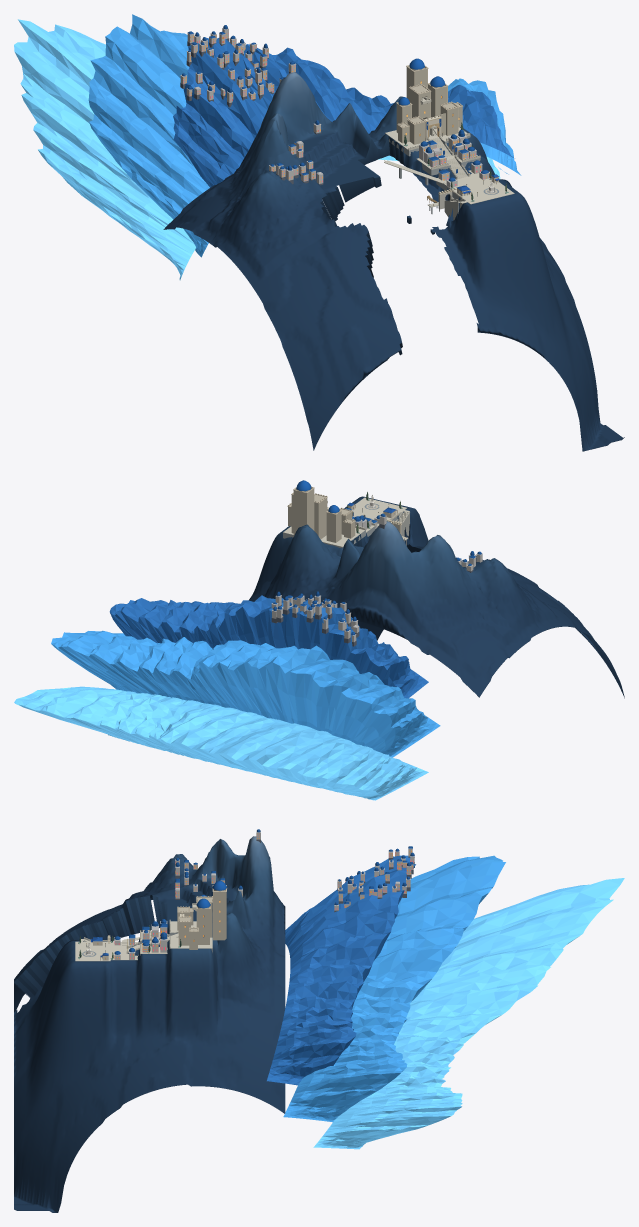
The model's file is citadel-cliff-input-v4.glb.
The picture shows the model from 3 angles, top to bottom: view 1: azimuth 30°, elevation 25°; view 2: azimuth 150°, elevation 25°; view 3: azimuth 270°, elevation 25°; orthographic projection. The views are drawn at different scales.
Visible parts, largest first — view 1: citadel-oskar-grid-mountain-surface, citadel-backdrop-ridge-mid, citadel-backdrop-ridge-far, citadel-backdrop-ridge-near, target-castle-exterior (×2), citadel-target-hillside-houses-claude-exterior-0, citadel-coastal-cliff-seal, citadel-target-hillside-houses-claude-exterior-5, west-city-plaza-deck, citadel-target-hillside-houses-claude-exterior-6, citadel-target-hillside-houses-claude-exterior-1; view 2: citadel-oskar-grid-mountain-surface, citadel-backdrop-ridge-mid, citadel-backdrop-ridge-far, citadel-backdrop-ridge-near, target-castle-exterior, citadel-target-hillside-houses-claude-exterior-0, west-city-plaza-deck, citadel-target-hillside-houses-claude-exterior-5; view 3: citadel-oskar-grid-mountain-surface, citadel-backdrop-ridge-far, citadel-backdrop-ridge-mid, citadel-backdrop-ridge-near, citadel-coastal-cliff-seal, target-castle-exterior, citadel-target-hillside-houses-claude-exterior-0, citadel-target-hillside-houses-claude-exterior-5, west-city-plaza-deck.
Part boxes in pixels (x1,y1,x2,y2): citadel-oskar-grid-mountain-surface: [163, 72, 624, 451]; citadel-backdrop-ridge-mid: [88, 14, 521, 257]; citadel-backdrop-ridge-far: [14, 19, 500, 280]; citadel-backdrop-ridge-near: [173, 37, 514, 187]; target-castle-exterior (×2): [396, 65, 463, 144]; citadel-target-hillside-houses-claude-exterior-0: [186, 29, 323, 183]; citadel-coastal-cliff-seal: [320, 136, 459, 355]; citadel-target-hillside-houses-claude-exterior-5: [182, 25, 319, 175]; west-city-plaza-deck: [454, 180, 514, 204]; citadel-target-hillside-houses-claude-exterior-6: [180, 34, 315, 179]; citadel-target-hillside-houses-claude-exterior-1: [180, 28, 323, 175]; citadel-oskar-grid-mountain-surface: [249, 496, 624, 698]; citadel-backdrop-ridge-mid: [51, 630, 440, 757]; citadel-backdrop-ridge-far: [14, 686, 428, 800]; citadel-backdrop-ridge-near: [109, 595, 428, 698]; target-castle-exterior: [288, 487, 354, 542]; citadel-target-hillside-houses-claude-exterior-0: [271, 516, 482, 642]; west-city-plaza-deck: [353, 497, 406, 521]; citadel-target-hillside-houses-claude-exterior-5: [273, 513, 481, 635]; citadel-oskar-grid-mountain-surface: [14, 836, 285, 1212]; citadel-backdrop-ridge-far: [313, 878, 624, 1149]; citadel-backdrop-ridge-mid: [283, 855, 505, 1122]; citadel-backdrop-ridge-near: [267, 855, 415, 1085]; citadel-coastal-cliff-seal: [14, 895, 169, 997]; target-castle-exterior: [177, 888, 227, 949]; citadel-target-hillside-houses-claude-exterior-0: [175, 833, 414, 910]; citadel-target-hillside-houses-claude-exterior-5: [175, 829, 414, 905]; west-city-plaza-deck: [75, 941, 110, 961].
Size of the model in its own units: 280 by 222 by 414.
Materials: 75 (1 with a texture image).
